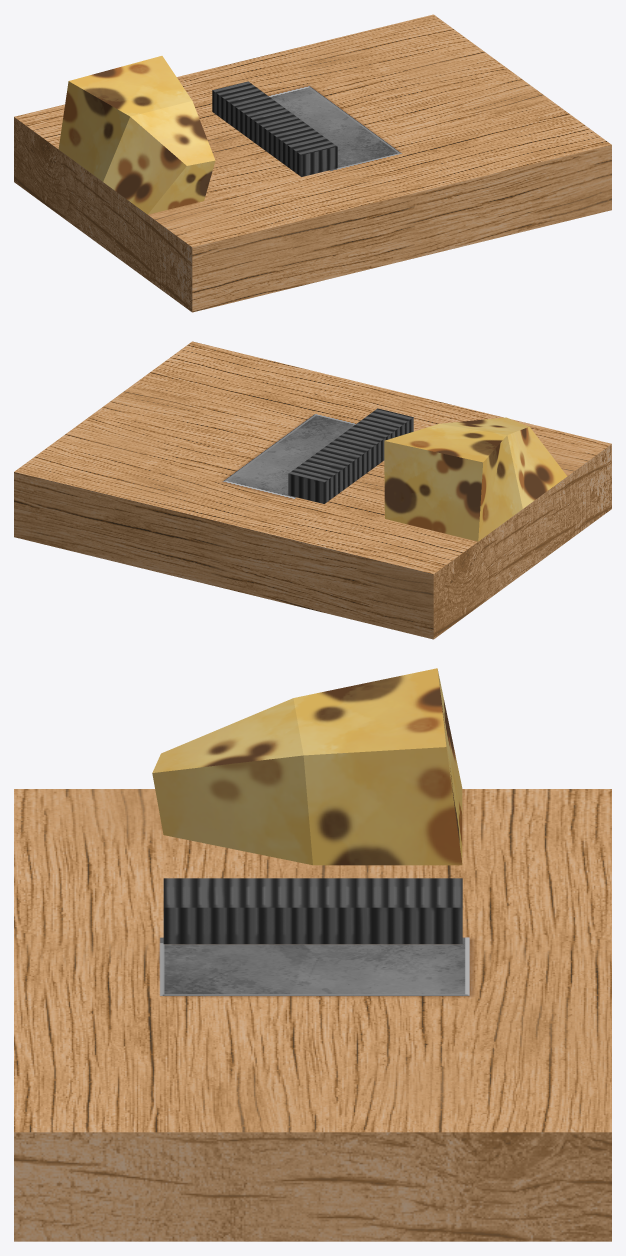
Rendered from mousetrapstand.fbx.
The picture shows the model from 3 angles, top to bottom: view 1: azimuth 30°, elevation 25°; view 2: azimuth 150°, elevation 25°; view 3: azimuth 270°, elevation 25°; orthographic projection. The views are drawn at different scales.
Parts seen in each view (by area): view 1: Cube; view 2: Cube; view 3: Cube.
Boxes of the visible parts, <box> form: Cube: <box>14,14,611,312</box>; Cube: <box>14,341,611,639</box>; Cube: <box>14,668,611,1241</box>.
Size of the model in its own units: 149 by 47.01 by 110.
Materials: 1 (1 with a texture image).
